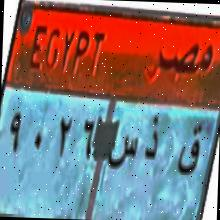0: (30, 120, 45, 165)
2: (56, 110, 73, 159)
6: (80, 113, 96, 164)
9: (7, 103, 22, 159)
qaaf: (176, 121, 202, 185)
seen: (106, 124, 140, 176)
zaal: (142, 110, 162, 168)
